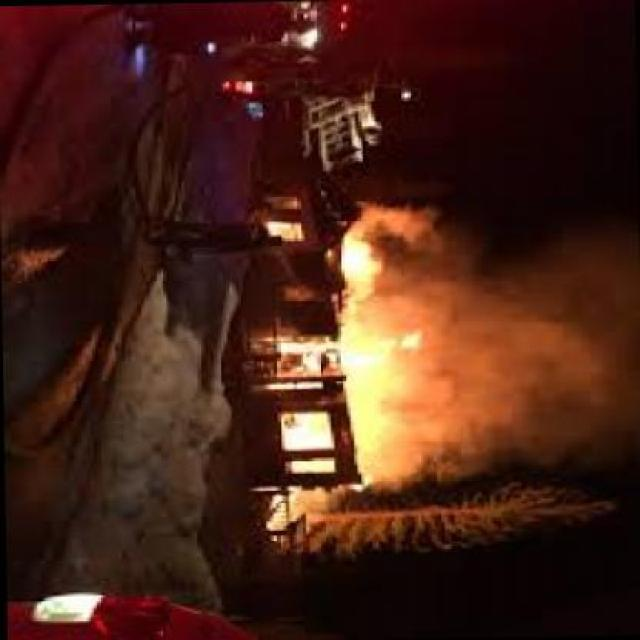Fire: (277, 230, 377, 368)
Smoke: (386, 194, 640, 488)
